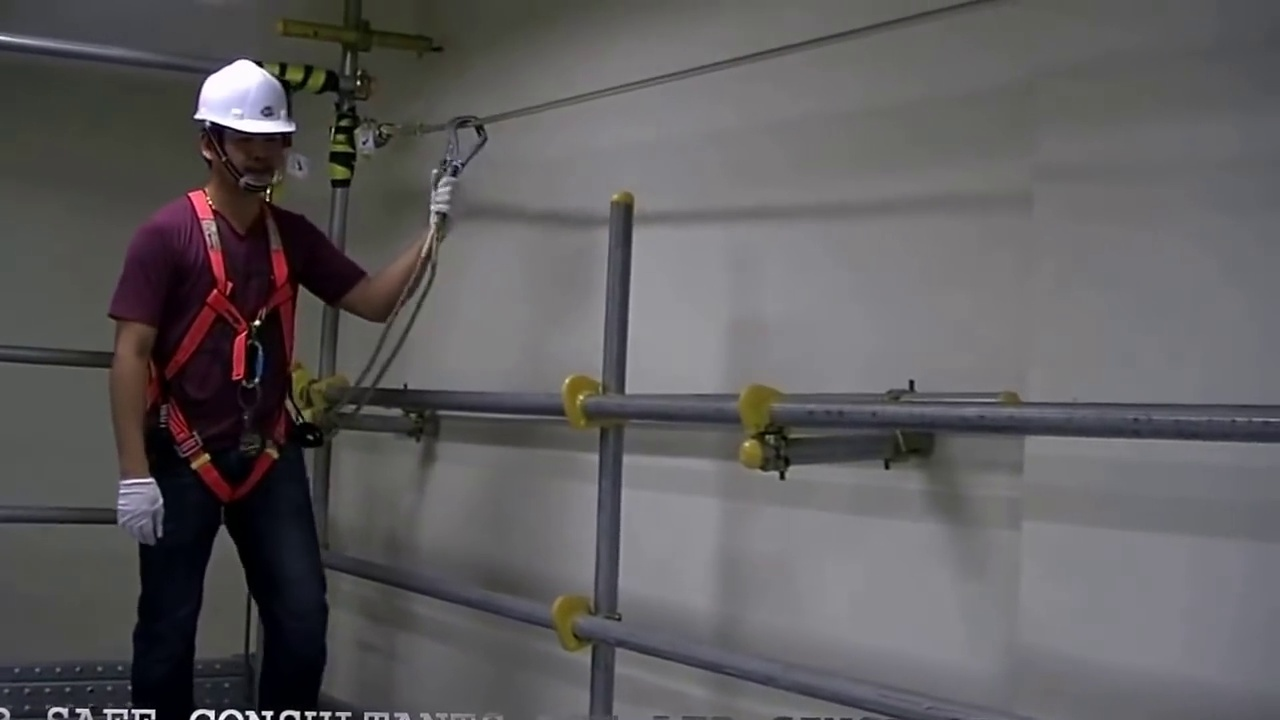harness: (181, 179, 291, 491)
helmet: (189, 59, 298, 137)
hook: (432, 102, 496, 174)
leash: (349, 235, 439, 415)
